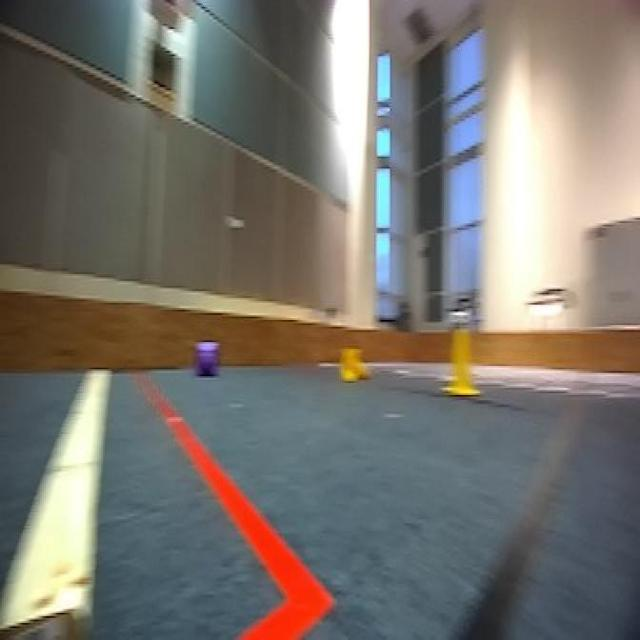frc_cone: (438, 322, 484, 396), (336, 344, 374, 385)
frc_cube: (194, 337, 220, 378)
